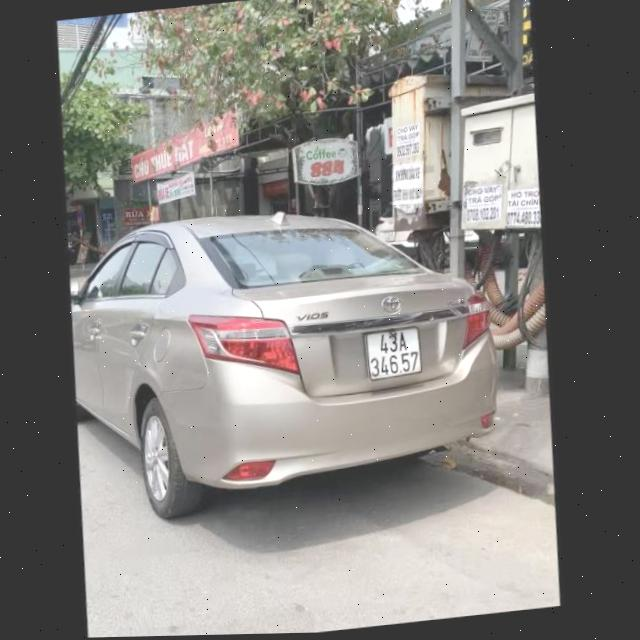car: (59, 174, 513, 540)
plate: (355, 318, 429, 385)
